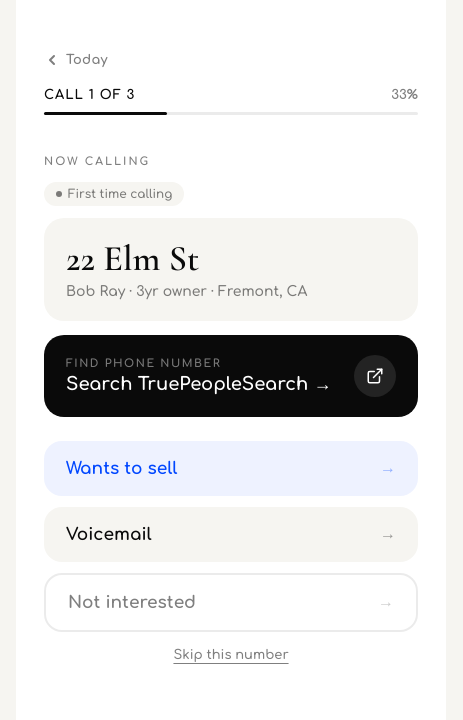
Test: DialSession › persists progress as you go
Click the button "Skip this number".
click(231, 655)  # box 44,632 -> 418,678
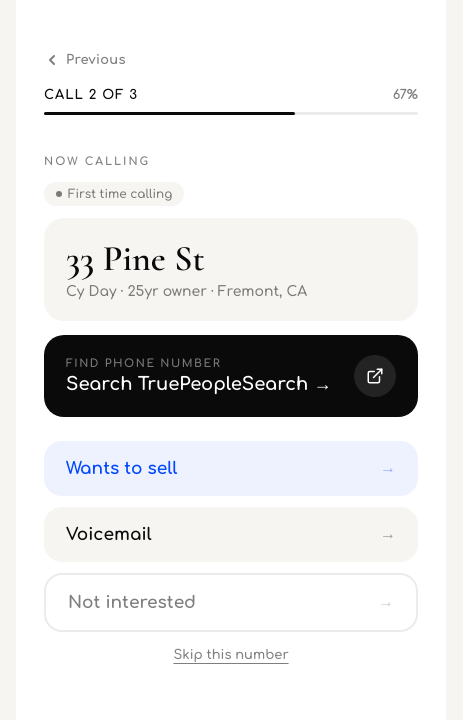
Expected: the text "Call 2 of 3" is shown, 44,88 -> 138,102
